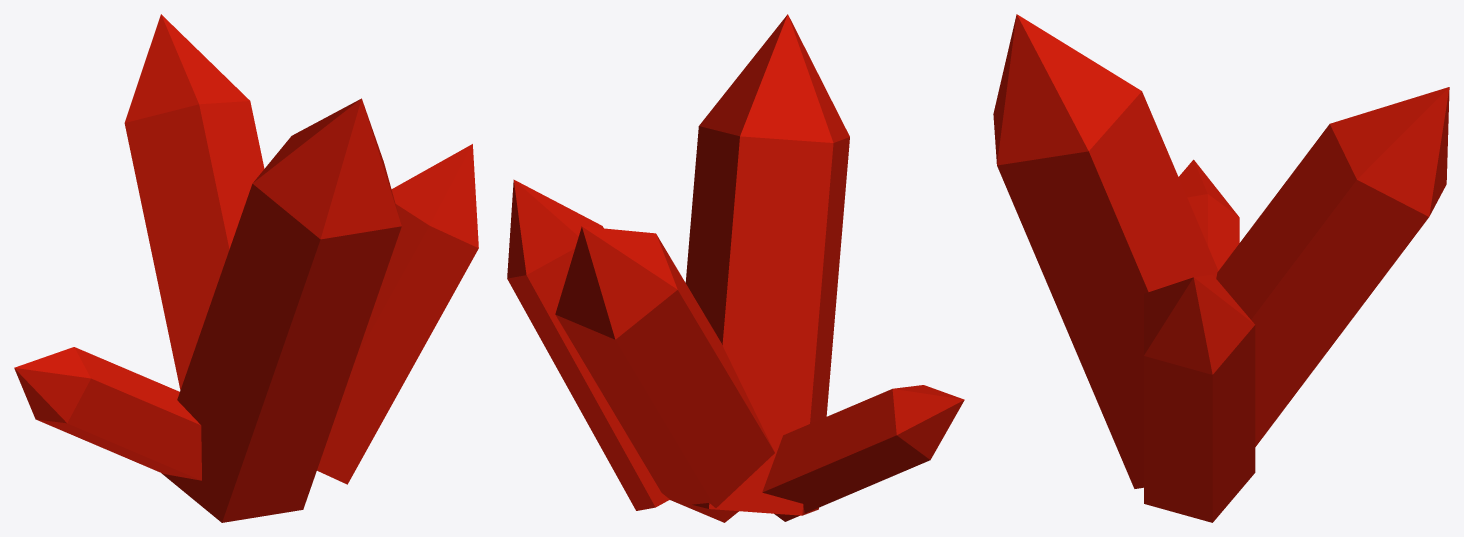
Rendered from crystall_r.fbx.
The picture shows the model from 3 angles, left to right: view 1: azimuth 30°, elevation 25°; view 2: azimuth 150°, elevation 25°; view 3: azimuth 270°, elevation 25°; orthographic projection. The views are drawn at different scales.
Parts seen in each view (by area): view 1: Cylinder.001; view 2: Cylinder.001; view 3: Cylinder.001.
Boxes of the visible parts, x1,y1,x2,y2 form: Cylinder.001: [14, 14, 478, 522]; Cylinder.001: [507, 14, 964, 522]; Cylinder.001: [993, 14, 1449, 522].
Bounding box in the file's own units: 335 × 316 × 273.
